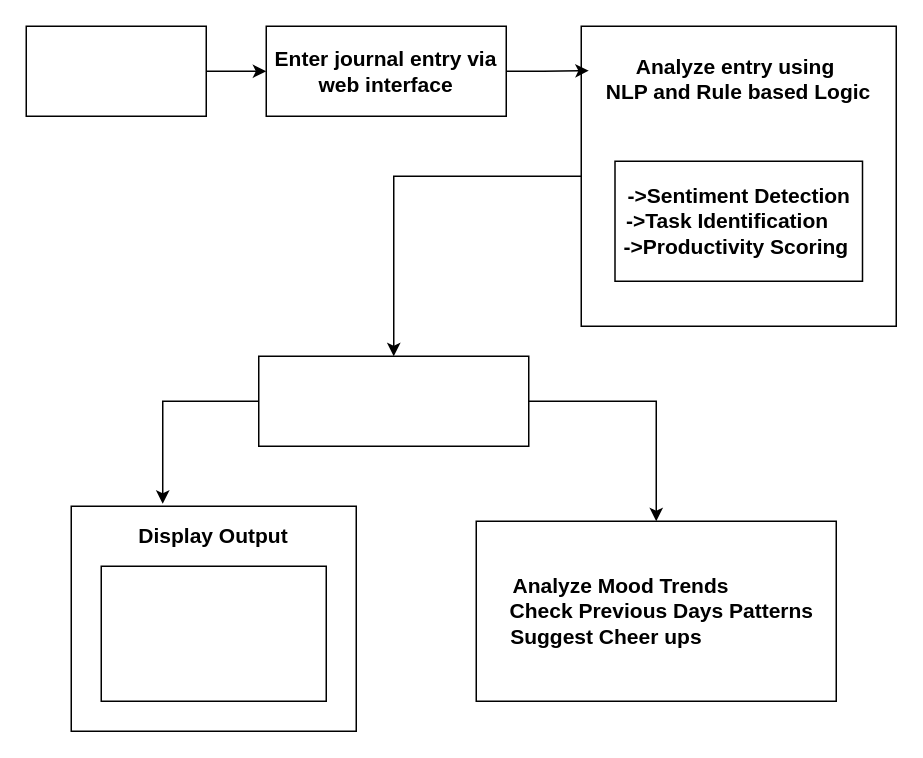
This 923x758 diagram has some shape labels left out. The centre of each missing label's shape, as x and y in pixels:
Mood Sentiment Task List Graph Summary: point 213,633
Store Result in DB (MongoDB): point 393,400
User: point 115,70
